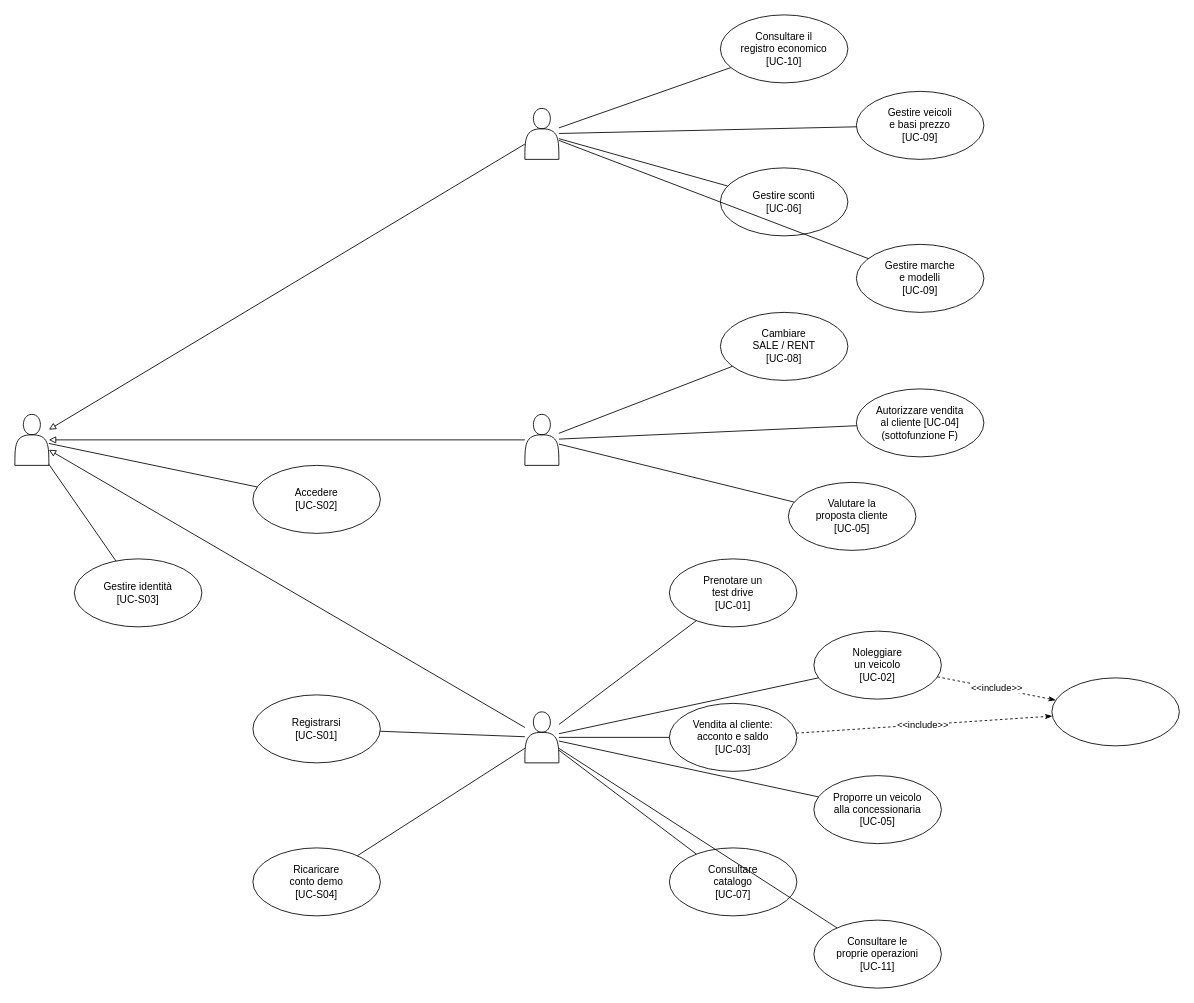
This 1194x1003 diagram has some shape labels left out. The shapes that lost their labels are listed below. From the top down, each one's centre as x and y in pixels, then its label:
At pixel 541 133: "Manager".
At pixel 31 439: "Utente".
At pixel 541 439: "Venditore".
At pixel 1115 711: "Addebitare conto demo".
At pixel 541 737: "Cliente".
